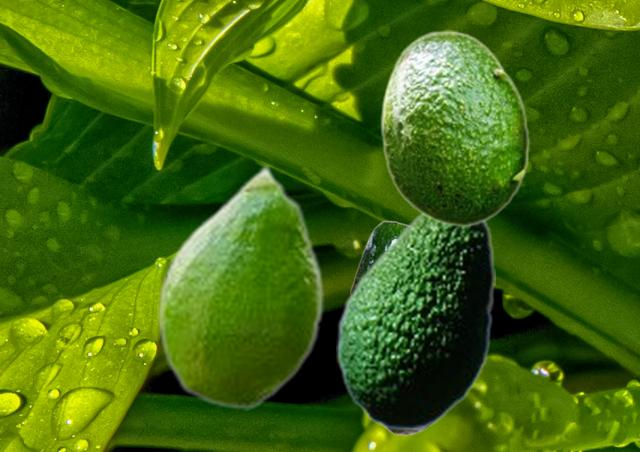avocado: (157, 163, 323, 409), (336, 211, 494, 430), (379, 30, 529, 226), (350, 220, 432, 434)
